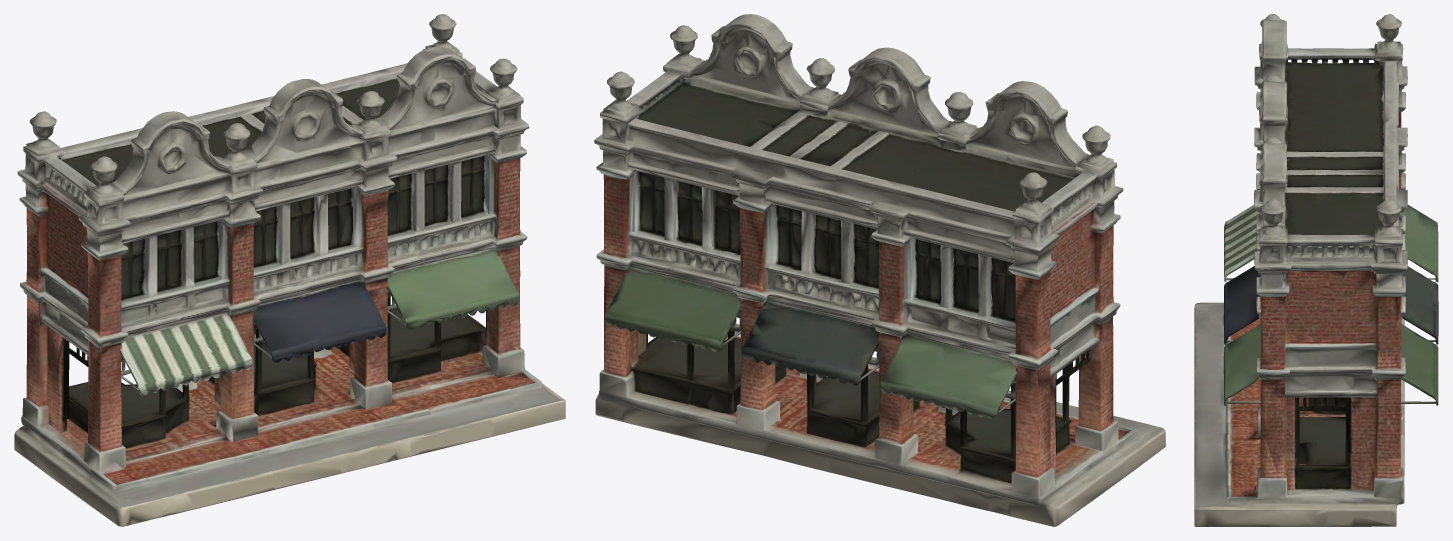
File: oldstreet.glb
The picture shows the model from 3 angles, left to right: view 1: azimuth 30°, elevation 25°; view 2: azimuth 150°, elevation 25°; view 3: azimuth 270°, elevation 25°; orthographic projection. The views are drawn at different scales.
Parts seen in each view (by area): view 1: tripo_node_0da5ca1f-4bea-4816-9306-33c08f16bb0f; view 2: tripo_node_0da5ca1f-4bea-4816-9306-33c08f16bb0f; view 3: tripo_node_0da5ca1f-4bea-4816-9306-33c08f16bb0f.
Boxes of the visible parts, x1=… form: tripo_node_0da5ca1f-4bea-4816-9306-33c08f16bb0f: x1=14, y1=14, x2=565, y2=526; tripo_node_0da5ca1f-4bea-4816-9306-33c08f16bb0f: x1=594, y1=14, x2=1165, y2=526; tripo_node_0da5ca1f-4bea-4816-9306-33c08f16bb0f: x1=1194, y1=14, x2=1438, y2=526.
Bounding box in the file's own units: 0.42 × 0.3212 × 0.2088.
1 material, 1 textured.
